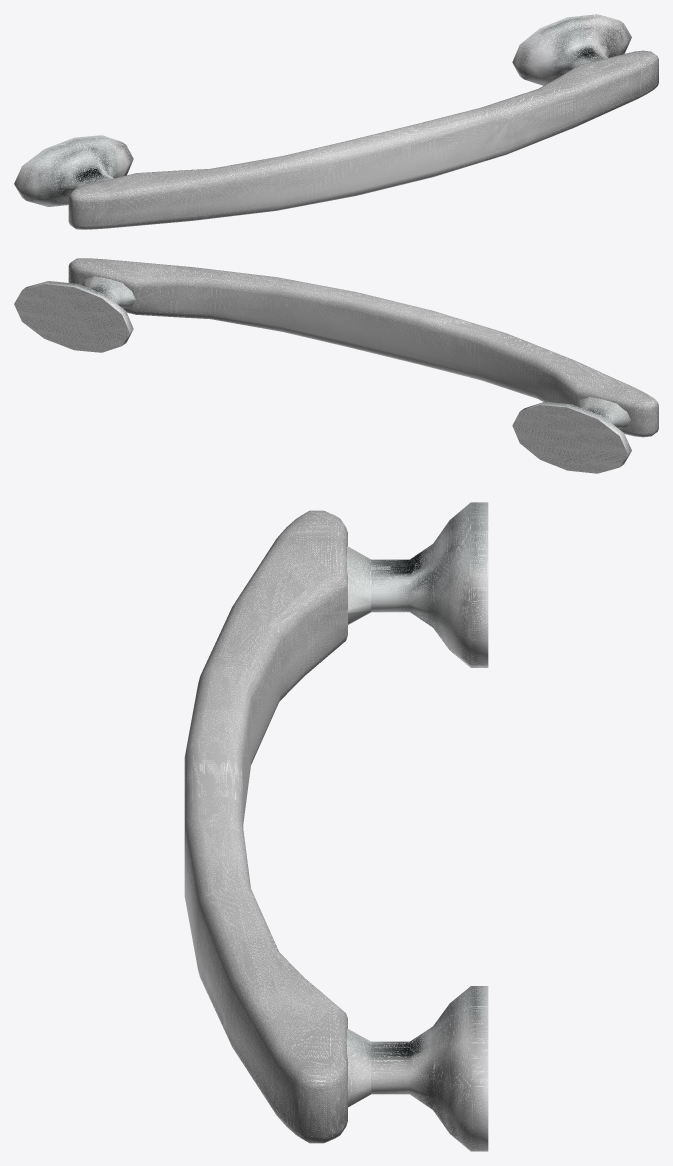
Rendered from original-68.obj.
The picture shows the model from 3 angles, top to bottom: view 1: azimuth 30°, elevation 25°; view 2: azimuth 150°, elevation 25°; view 3: azimuth 270°, elevation 25°; orthographic projection. The views are drawn at different scales.
Parts seen in each view (by area): view 1: mesh119/mesh119-geometry#mesh119-geometry; view 2: mesh119/mesh119-geometry#mesh119-geometry; view 3: mesh119/mesh119-geometry#mesh119-geometry.
Boxes of the visible parts, x1,y1,x2,y2 form: mesh119/mesh119-geometry#mesh119-geometry: (14,14,658,229); mesh119/mesh119-geometry#mesh119-geometry: (14,258,658,473); mesh119/mesh119-geometry#mesh119-geometry: (184,502,488,1151).
Size of the model in its own units: 0.0989 by 0.00971 by 0.0212.
Materials: 3 (1 with a texture image).
